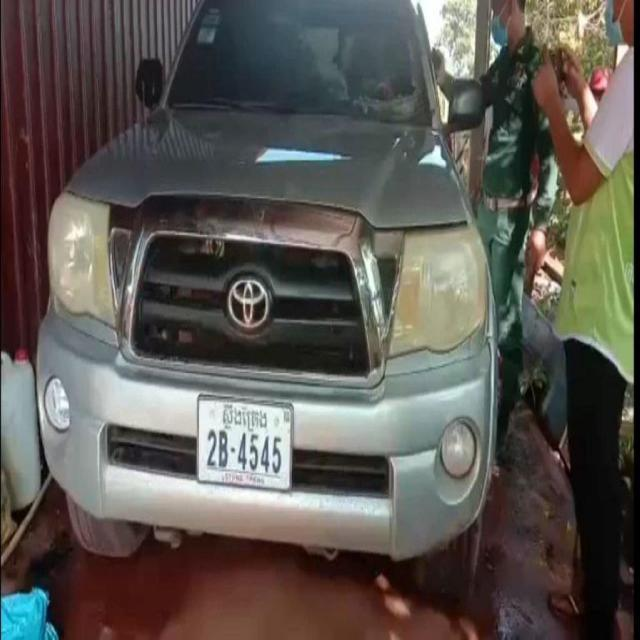Stung_Treng: (221, 403, 268, 431)
